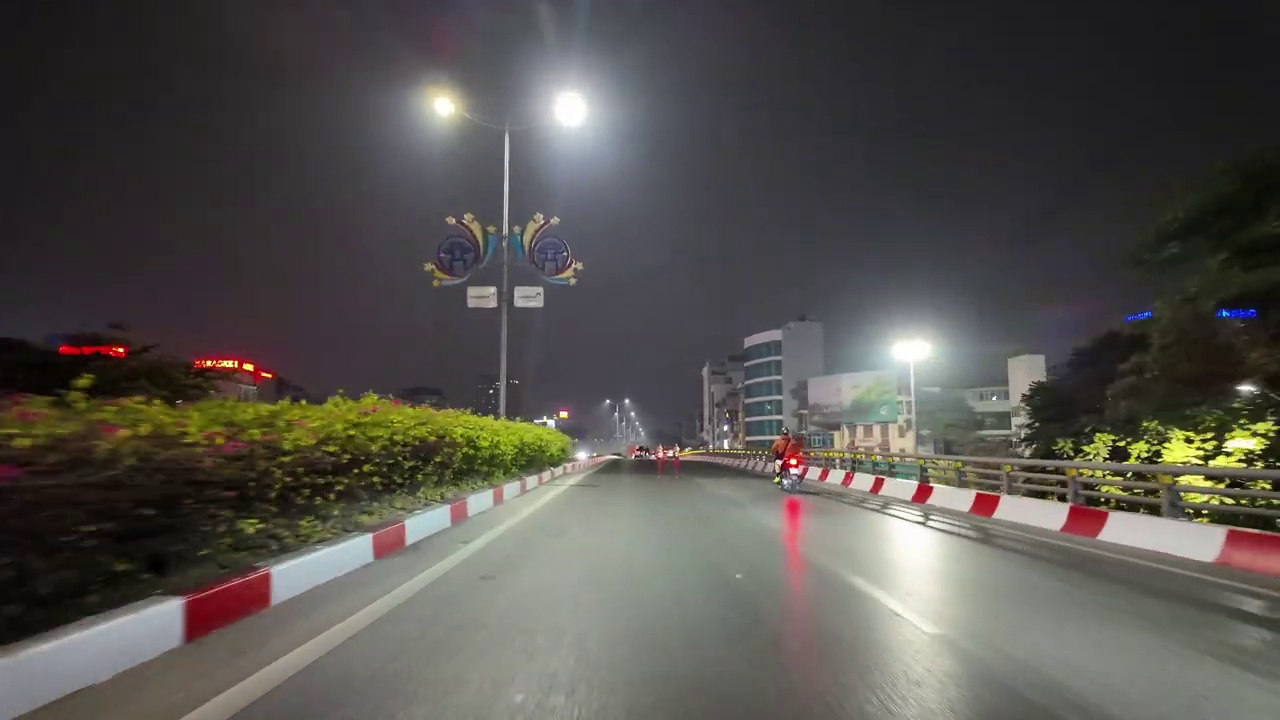acesa: (425, 88, 464, 125), (551, 89, 588, 127), (894, 335, 931, 365)
